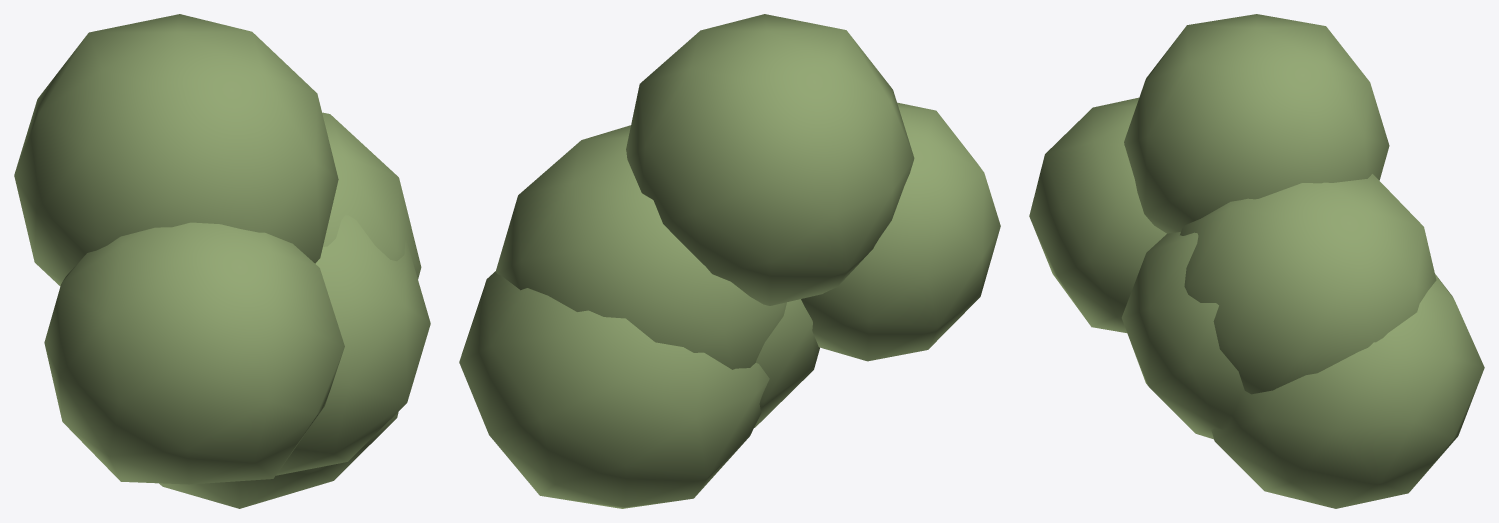
The model's file is NPR_07_2551__MOD__VegetationElements__Perennials__Calendula__Var-01__.glb.
The picture shows the model from 3 angles, left to right: view 1: azimuth 30°, elevation 25°; view 2: azimuth 150°, elevation 25°; view 3: azimuth 270°, elevation 25°; orthographic projection. The views are drawn at different scales.
Parts seen in each view (by area): view 1: NPR_07_2551__MOD__VegetationElements__Perennials__Calendula_; view 2: NPR_07_2551__MOD__VegetationElements__Perennials__Calendula_; view 3: NPR_07_2551__MOD__VegetationElements__Perennials__Calendula_.
Boxes of the visible parts, <box> form: NPR_07_2551__MOD__VegetationElements__Perennials__Calendula_: <box>14,14,430,508</box>; NPR_07_2551__MOD__VegetationElements__Perennials__Calendula_: <box>459,14,1000,508</box>; NPR_07_2551__MOD__VegetationElements__Perennials__Calendula_: <box>1029,14,1484,508</box>.
Bounding box in the file's own units: 0.7078 × 0.7925 × 0.7607.
